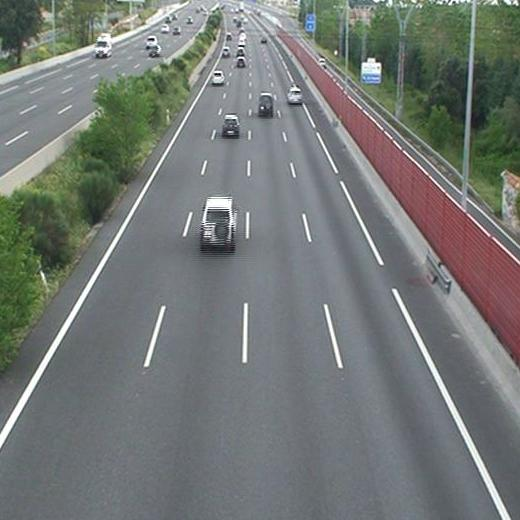car: (200, 198, 236, 244), (222, 116, 240, 135), (259, 93, 273, 113), (288, 89, 303, 103), (211, 72, 224, 85), (221, 47, 231, 57), (237, 57, 246, 67), (236, 48, 245, 56)
